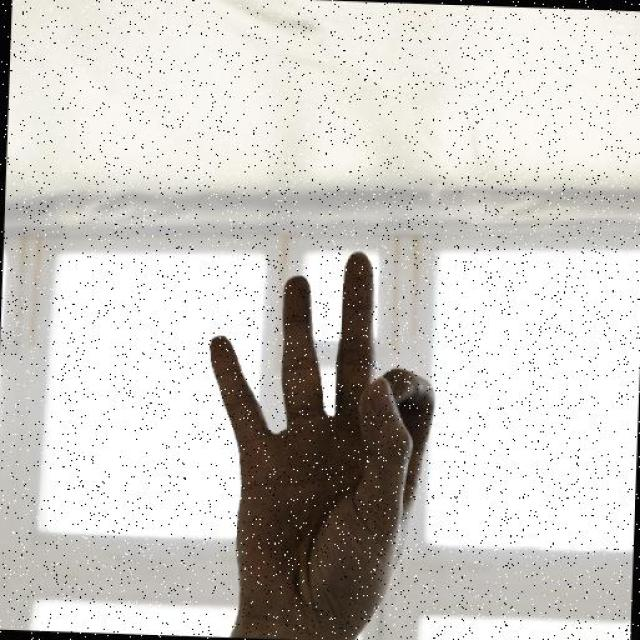F: (196, 241, 443, 628)
